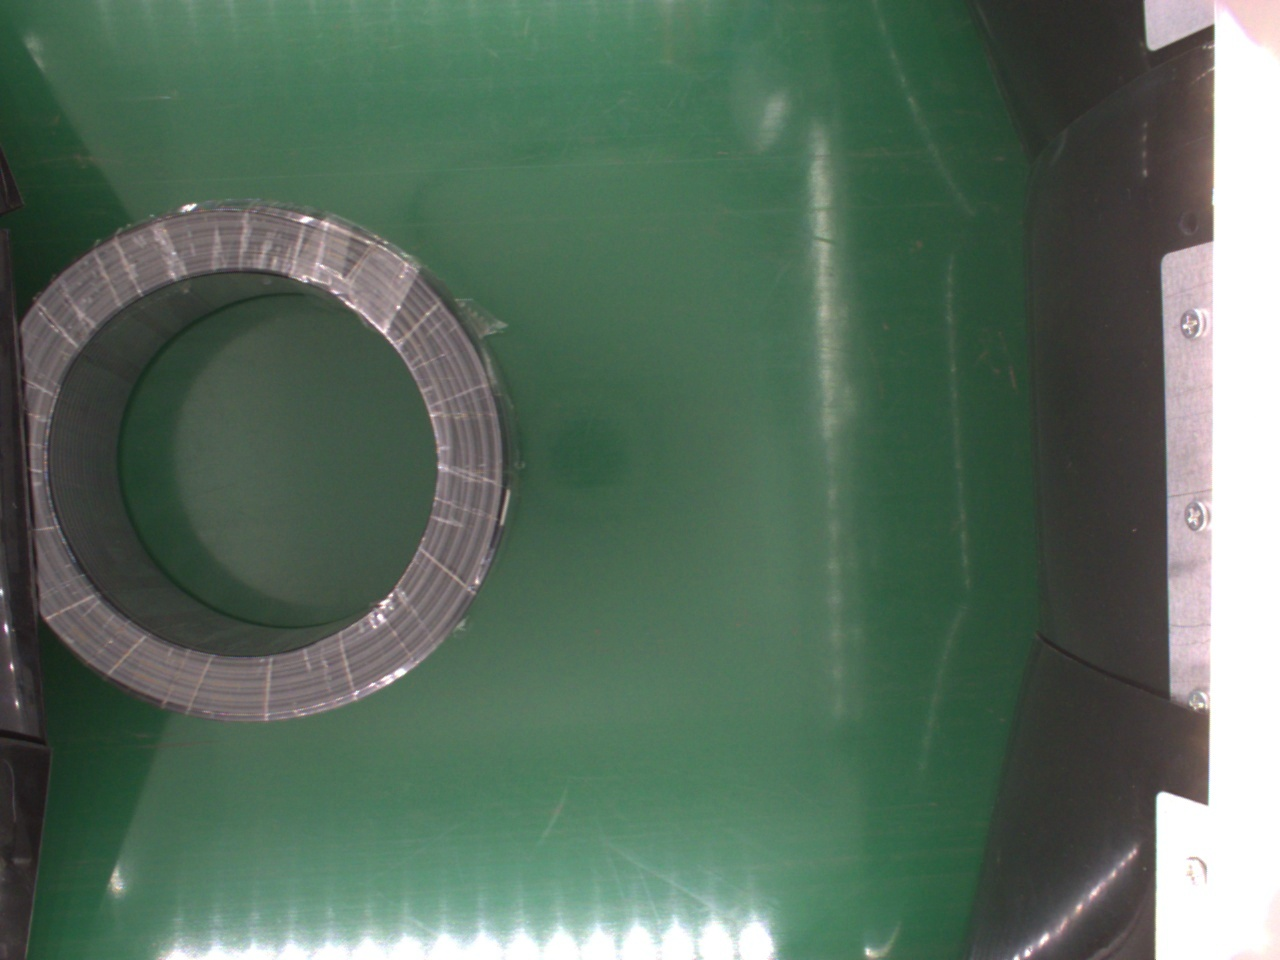black: (23, 208, 519, 726)
